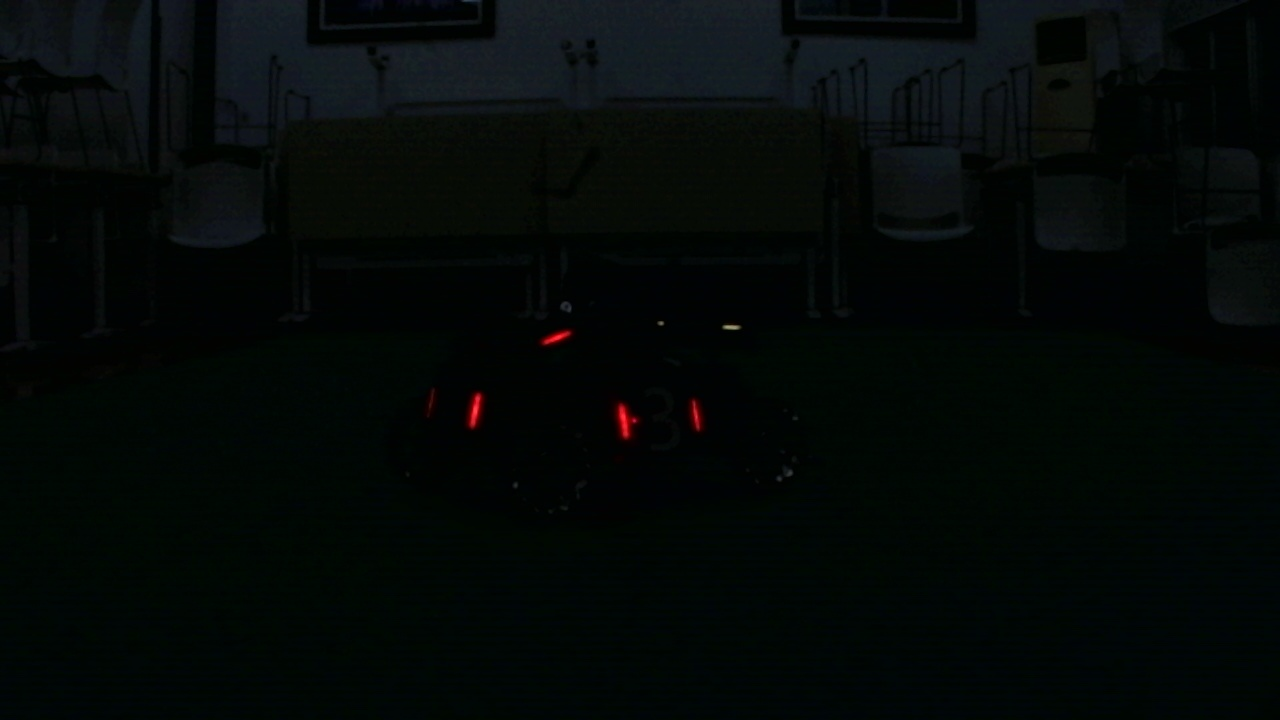lamp: (467, 387, 483, 427), (688, 397, 703, 436), (616, 403, 631, 438)
pair1: (619, 400, 703, 434)
